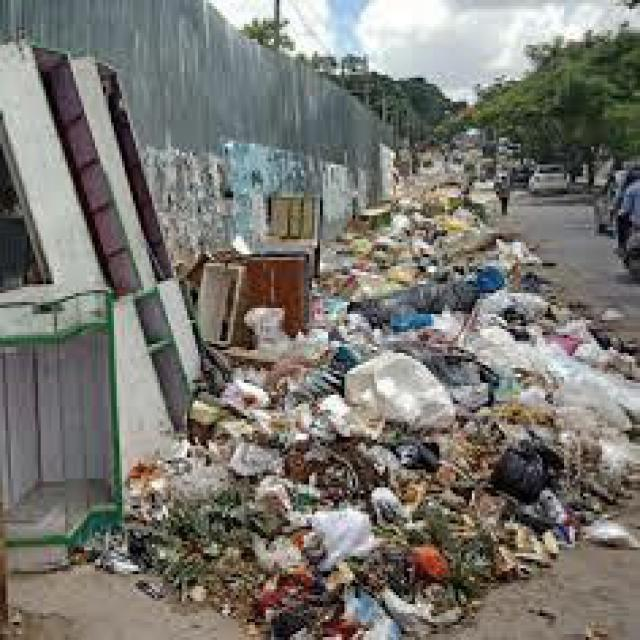garbage: (128, 224, 638, 631), (369, 150, 518, 317)
